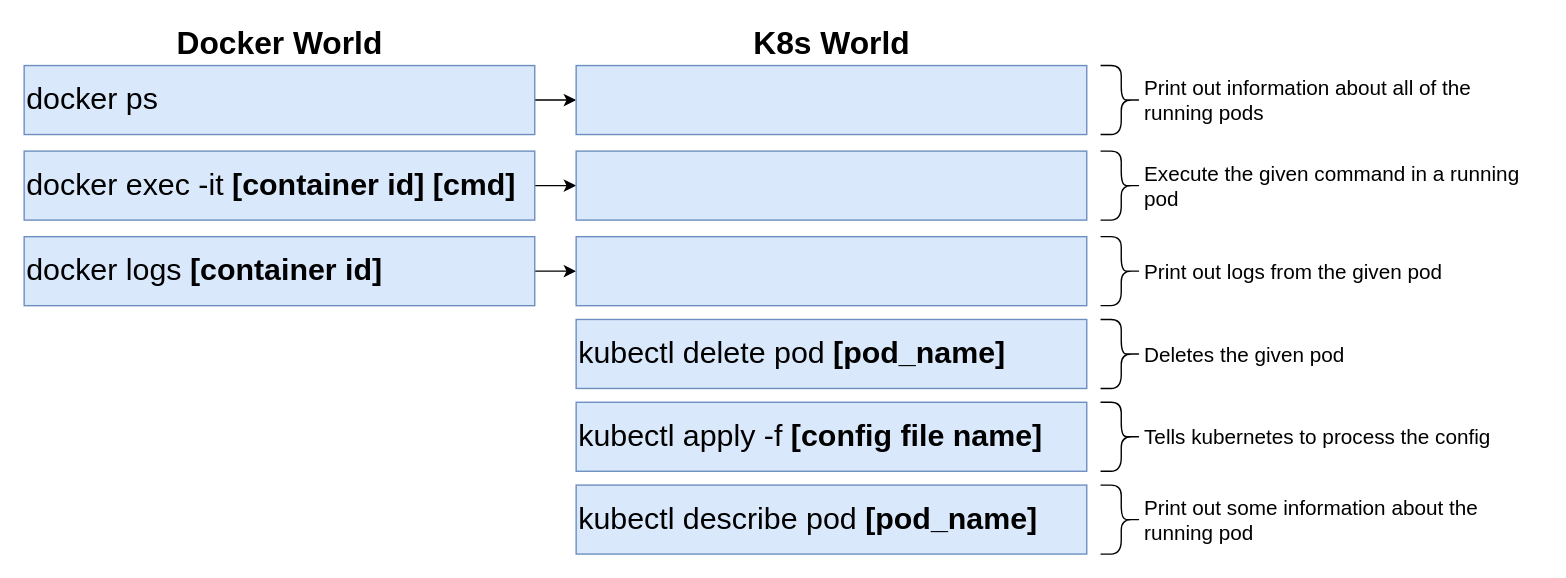
This 1566x578 diagram has some shape labels left out. The centre of each missing label's shape, as x and y in pixels:
"kubectl exec -it [pod_name] [cmd]" goes at point (831, 185).
"kubectl get pods" goes at point (831, 99).
"kubectl logs [pod_name]" goes at point (831, 270).
